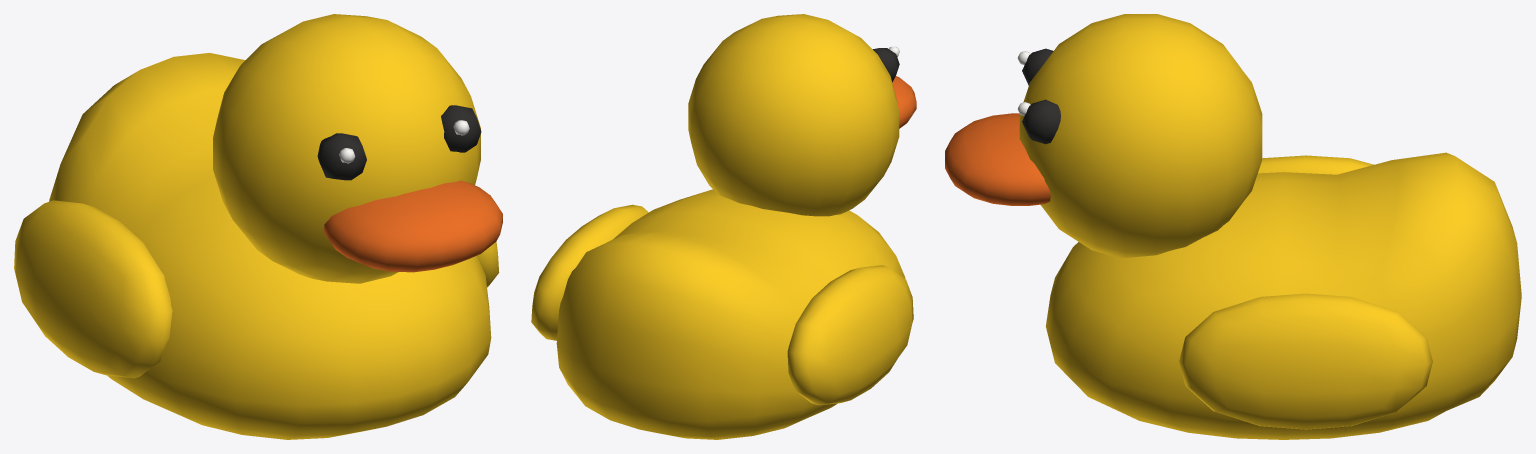
File: rubber-duck.glb
3 renders of one model, left to right at view 1: azimuth 30°, elevation 25°; view 2: azimuth 150°, elevation 25°; view 3: azimuth 270°, elevation 25°, orthographic. The views are drawn at different scales.
Parts seen in each view (by area): view 1: rubber-duck; view 2: rubber-duck; view 3: rubber-duck.
Boxes of the visible parts, left/top/right/bottom form: rubber-duck: left=14, top=14, right=502, bottom=439; rubber-duck: left=531, top=14, right=916, bottom=439; rubber-duck: left=945, top=14, right=1521, bottom=439.
Bounding box in the file's own units: 0.1336 × 0.1312 × 0.1817.
